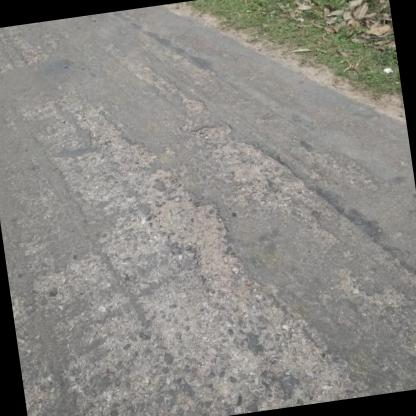pothole: (187, 109, 303, 208), (148, 183, 242, 287)
